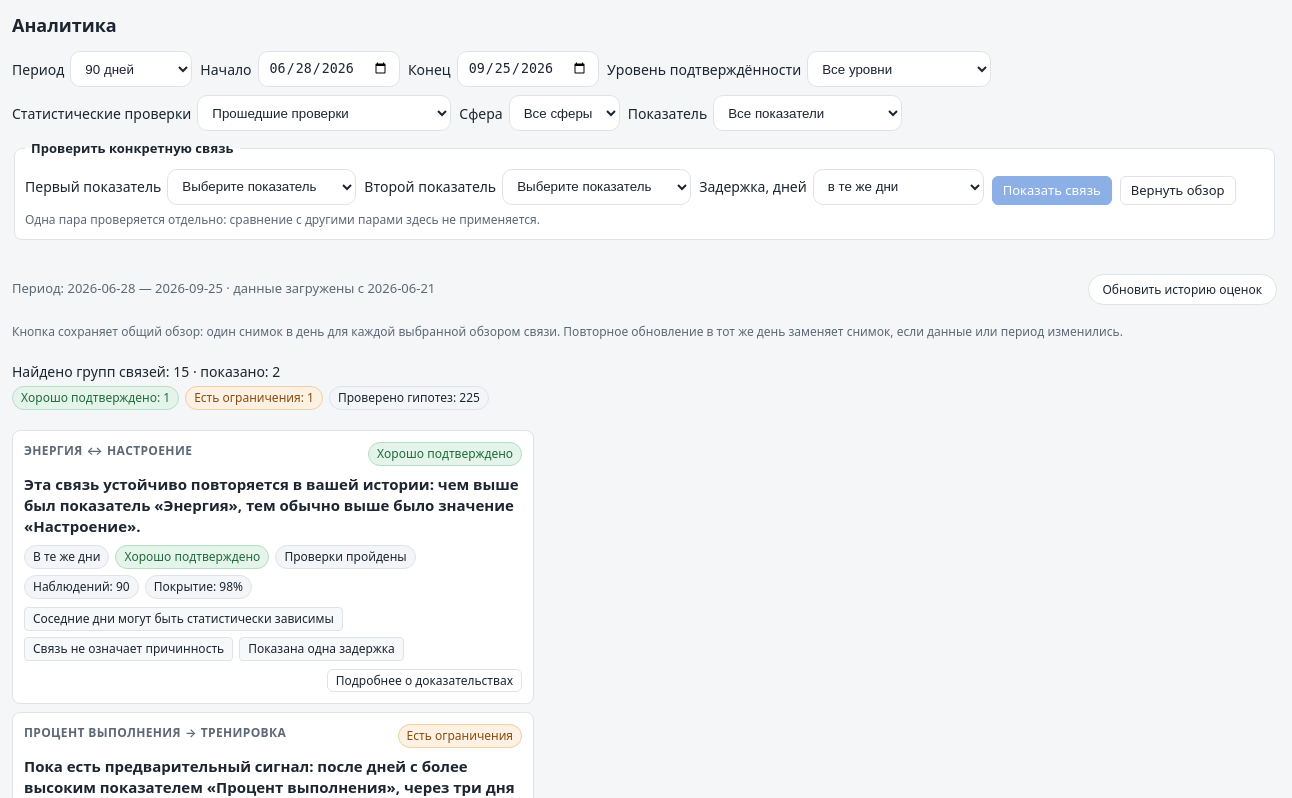
Test case: InsightsPage › stores a history snapshot only when asked and reports the outcome
The image size is (1292, 798).
Expected: the text "устойчиво повторяется" is shown, [24,474,519,536]
Click the button "Обновить историю оценок".
click(1182, 289)  # box [1088,274,1277,304]
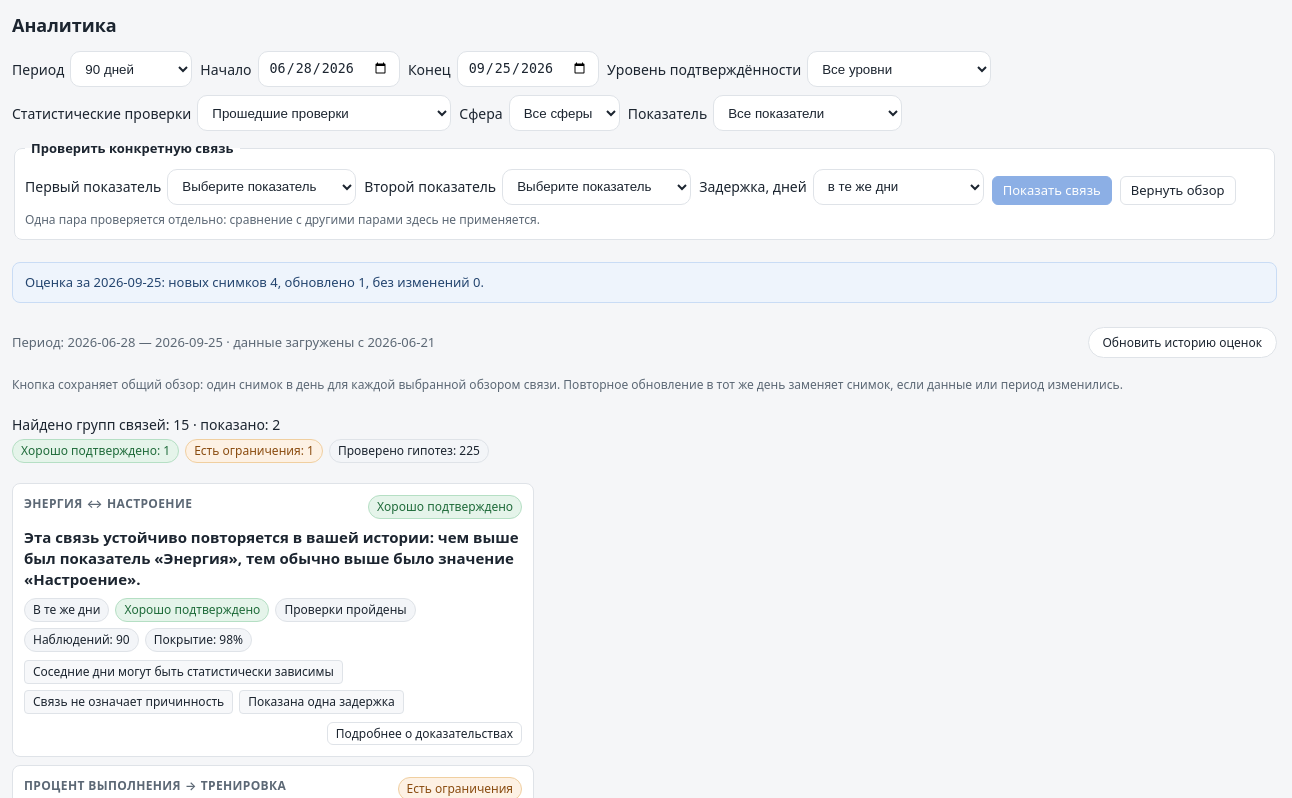
Expected: the text "Оценка за 2026-09-25: новых снимков 4, обновлено 1, без изменений 0." is shown, [12,262,1277,303]
